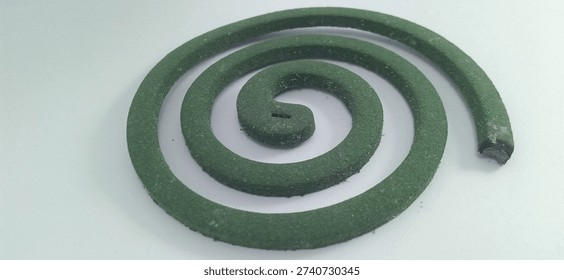Open-Flame-Hazard: (122, 13, 519, 255)
